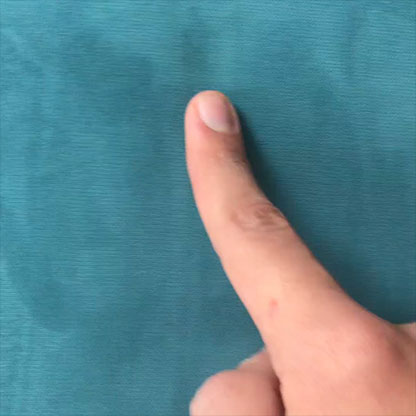fingertip: (179, 76, 266, 159)
